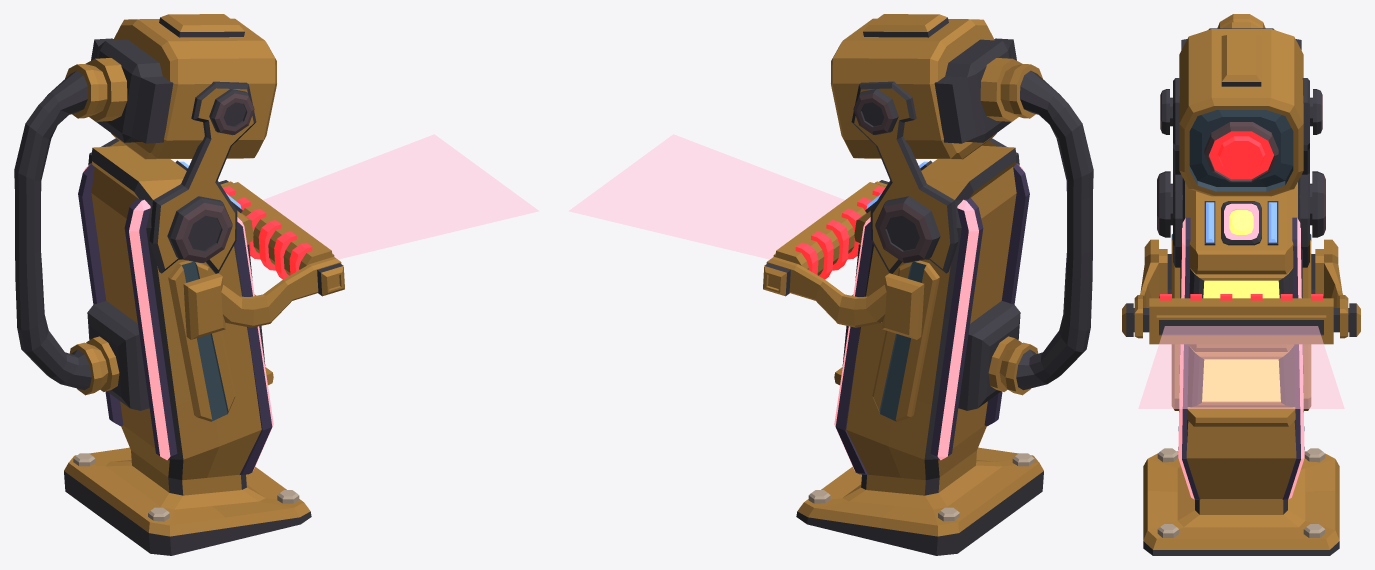
The model's file is scaner_bot_1_Animated.fbx.
3 renders of one model, left to right at view 1: azimuth 30°, elevation 25°; view 2: azimuth 150°, elevation 25°; view 3: azimuth 270°, elevation 25°, orthographic.
Parts seen in each view (by area): view 1: scaner_body.001, scaner_hand.001, scaner_upgrade_001.001; view 2: scaner_body.001, scaner_hand.001, scaner_upgrade_001.001; view 3: scaner_body.001, scaner_hand.001, scaner_upgrade_001.001.
Part boxes in pixels (box(x1,y1,x2,y2)): scaner_body.001: box(14, 14, 311, 555); scaner_hand.001: box(183, 134, 538, 339); scaner_upgrade_001.001: box(78, 160, 273, 474); scaner_body.001: box(796, 14, 1093, 555); scaner_hand.001: box(569, 134, 924, 339); scaner_upgrade_001.001: box(834, 160, 1029, 474); scaner_body.001: box(1143, 14, 1339, 555); scaner_hand.001: box(1122, 239, 1360, 408); scaner_upgrade_001.001: box(1178, 201, 1304, 499).
Bounding box in the file's own units: 2.74 × 2.7 × 1.23.
